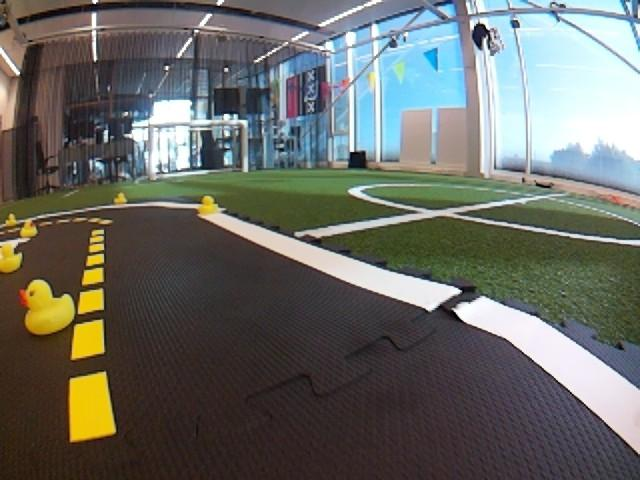Duckies: (19, 278, 74, 336), (0, 243, 22, 273), (196, 195, 218, 214), (19, 220, 38, 237), (113, 193, 128, 205), (5, 214, 19, 226)
